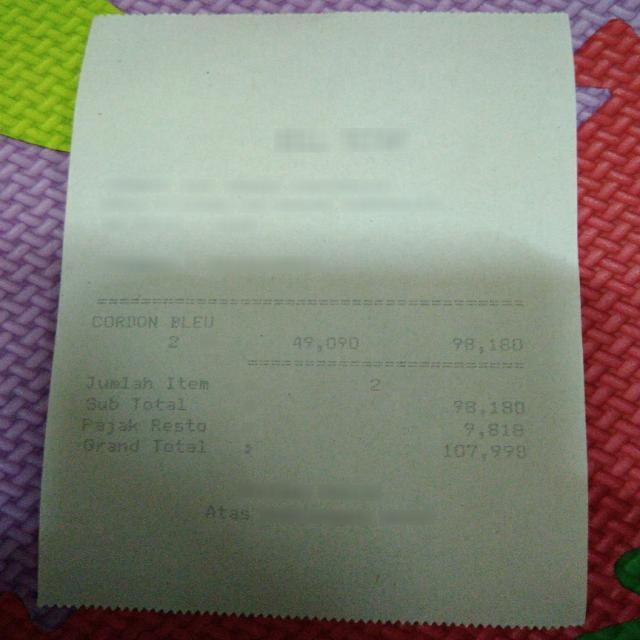kertas: (39, 14, 587, 626)
